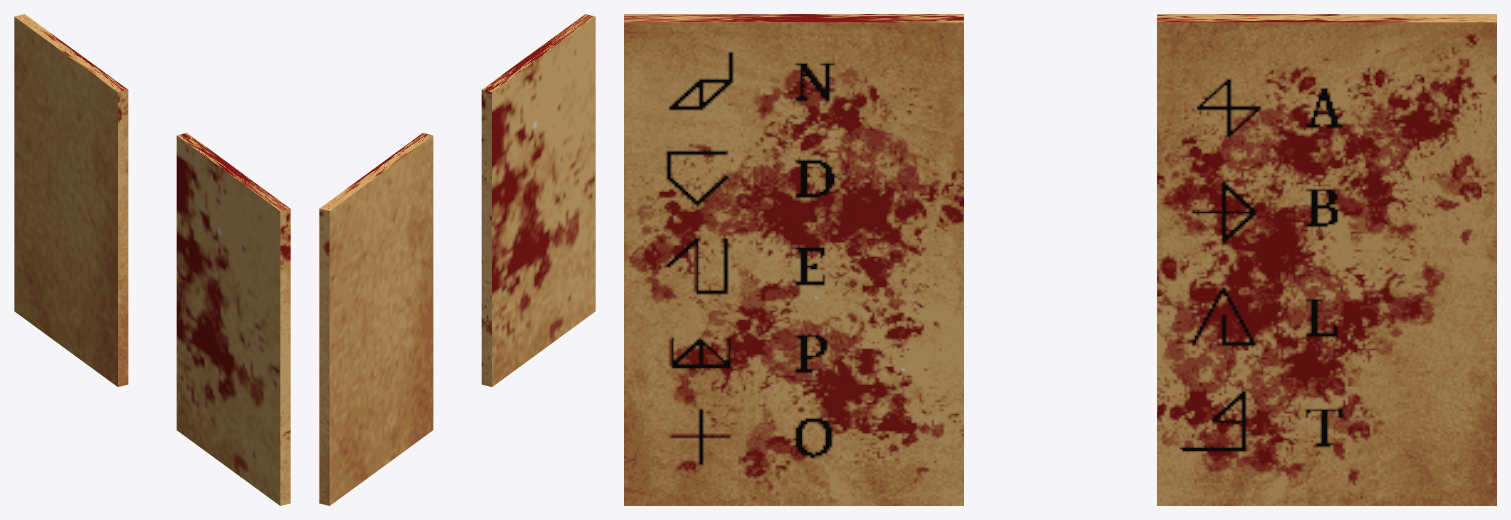
File: translation papers.fbx
3 views of the same model, side by side, from view 1: azimuth 30°, elevation 25°; view 2: azimuth 150°, elevation 25°; view 3: azimuth 270°, elevation 25° (orthographic). The views are drawn at different scales.
Parts seen in each view (by area): view 1: Cube.617, Cube.618; view 2: Cube.617, Cube.618; view 3: Cube.617, Cube.618.
Part boxes in pixels (x1=…): Cube.617: x1=176, y1=133, x2=290, y2=505; Cube.618: x1=14, y1=14, x2=128, y2=386; Cube.617: x1=481, y1=14, x2=595, y2=386; Cube.618: x1=319, y1=133, x2=433, y2=505; Cube.617: x1=624, y1=14, x2=963, y2=505; Cube.618: x1=1157, y1=14, x2=1496, y2=505.
Size of the model in its own units: 0.2946 by 7.95 by 13.
Materials: 2 (2 with a texture image).
